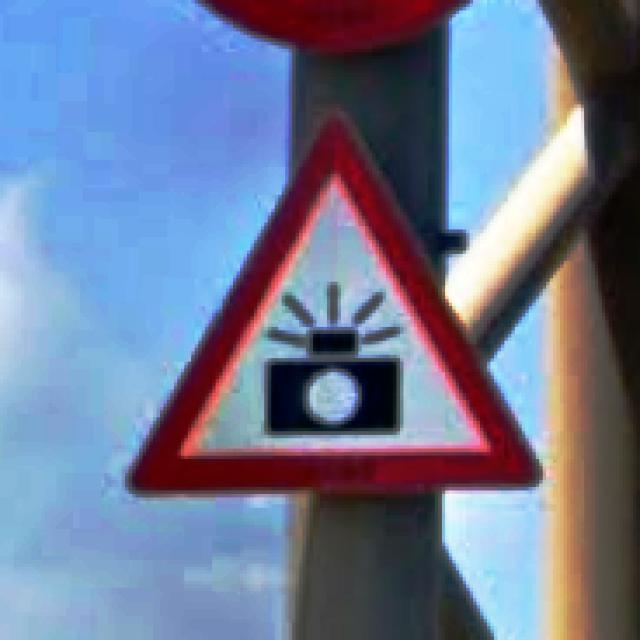speedcamera: (125, 105, 543, 498)
